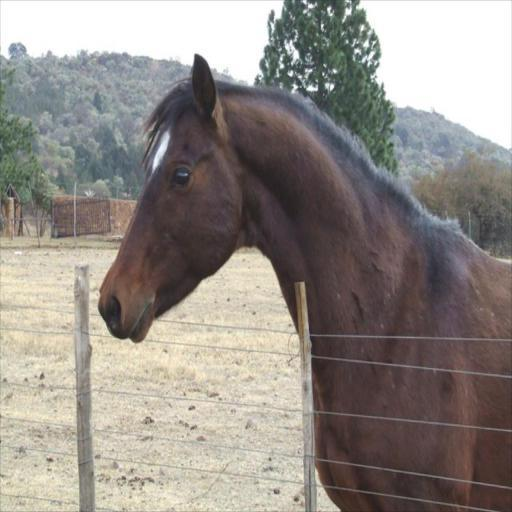Horse: (96, 49, 511, 511)
